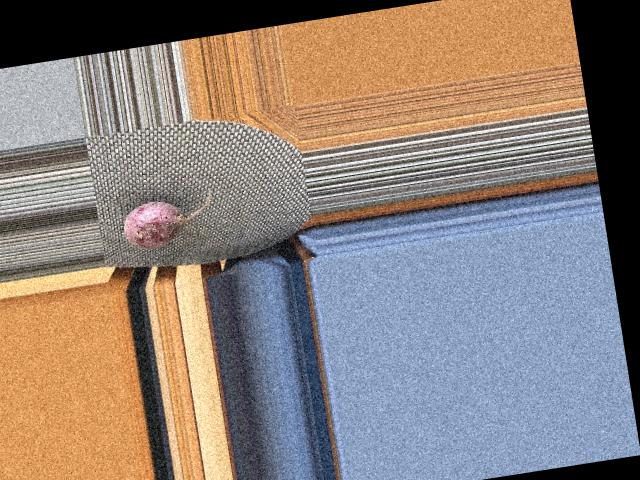beet: (120, 187, 218, 252)
